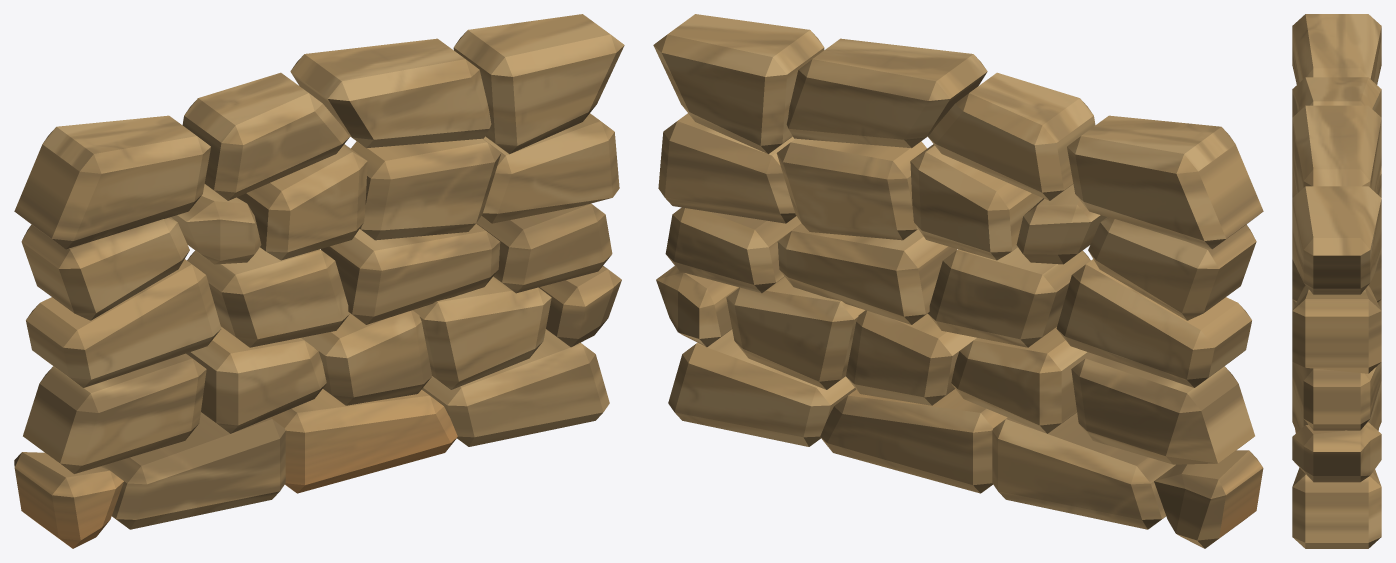
Rendered from mur 1.FBX.
The picture shows the model from 3 angles, left to right: view 1: azimuth 30°, elevation 25°; view 2: azimuth 150°, elevation 25°; view 3: azimuth 270°, elevation 25°; orthographic projection. The views are drawn at different scales.
Parts seen in each view (by area): view 1: Box021; view 2: Box021; view 3: Box021.
Part boxes in pixels (bbox=[...]): Box021: bbox=[14, 14, 624, 548]; Box021: bbox=[653, 14, 1263, 548]; Box021: bbox=[1292, 14, 1381, 548].
Bounding box in the file's own units: 195 × 130 × 30.94.
Materials: 1 (1 with a texture image).
